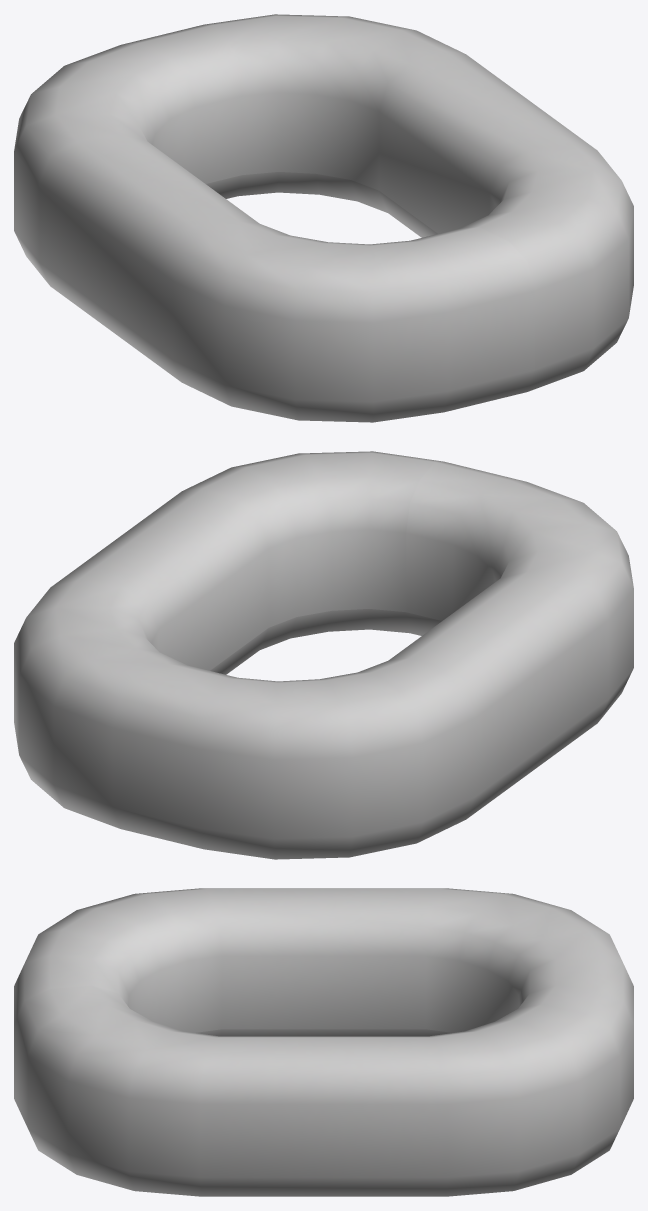
File: chain_piece.fbx
The picture shows the model from 3 angles, top to bottom: view 1: azimuth 30°, elevation 25°; view 2: azimuth 150°, elevation 25°; view 3: azimuth 270°, elevation 25°; orthographic projection. The views are drawn at different scales.
Visible parts, largest first — view 1: chain_piece; view 2: chain_piece; view 3: chain_piece.
Boxes of the visible parts, box(x1,y1,x2,y2) form: chain_piece: box(14, 14, 633, 422); chain_piece: box(14, 451, 633, 859); chain_piece: box(14, 888, 633, 1196).
Bounding box in the file's own units: 15 × 5 × 19.98.
